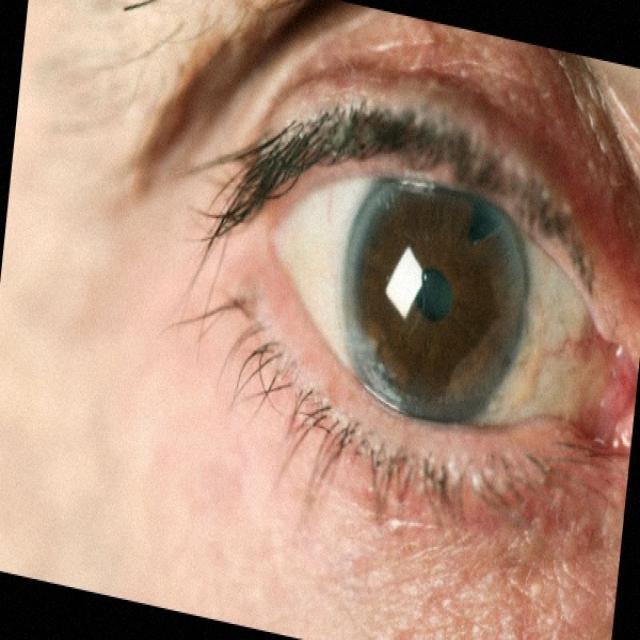Cataract: (270, 86, 575, 552)
